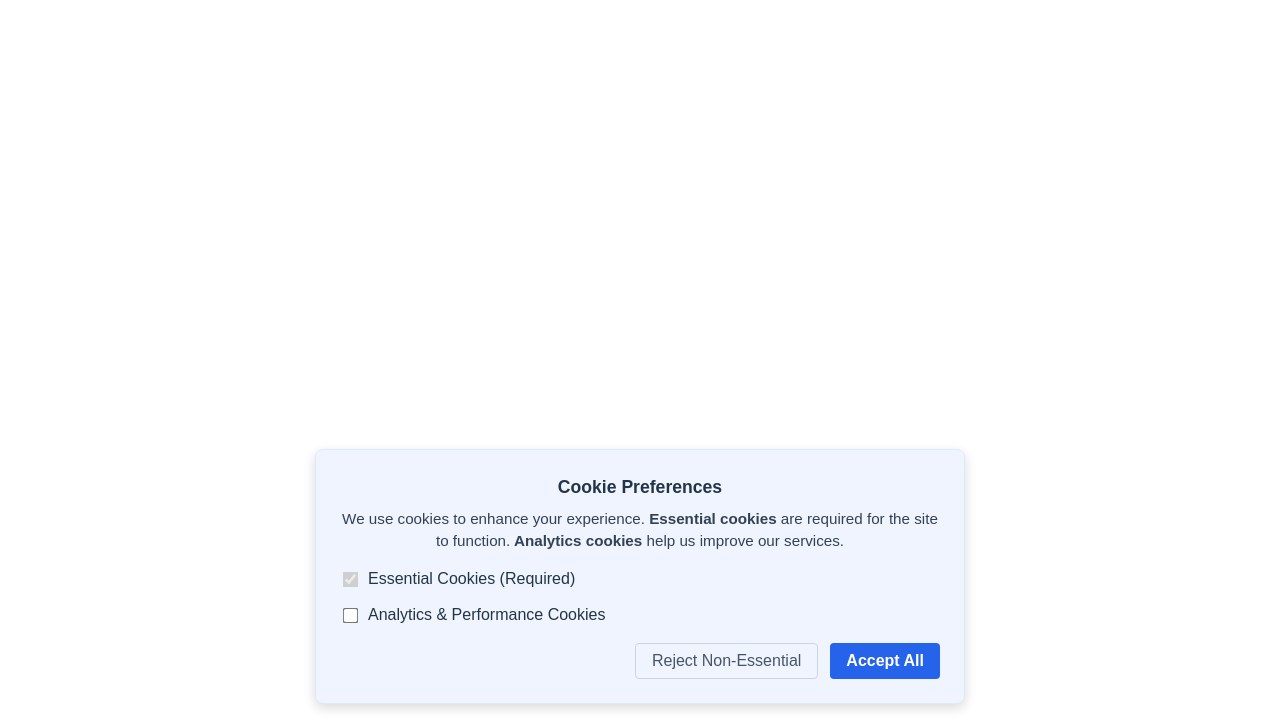
Test: ConsentBanner › hides banner immediately when dismissed
Expected: the heading "Cookie Preferences" is shown, [558,477,722,497]
Click the button "Reject Non-Essential": (727, 661) [635,643,818,679]
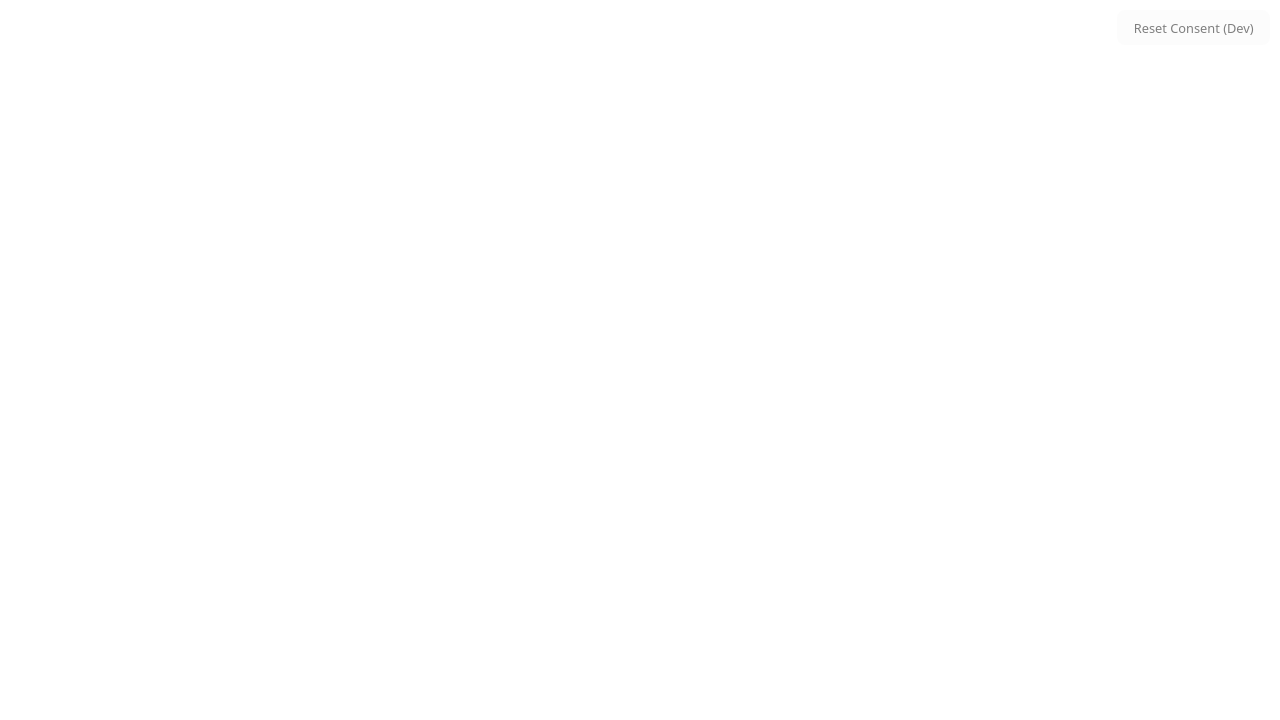
Now the heading "Cookie Preferences" is gone
